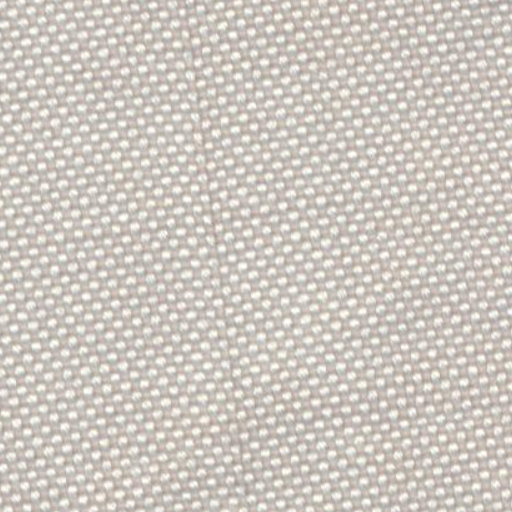TuoSha: (164, 18, 260, 498)
